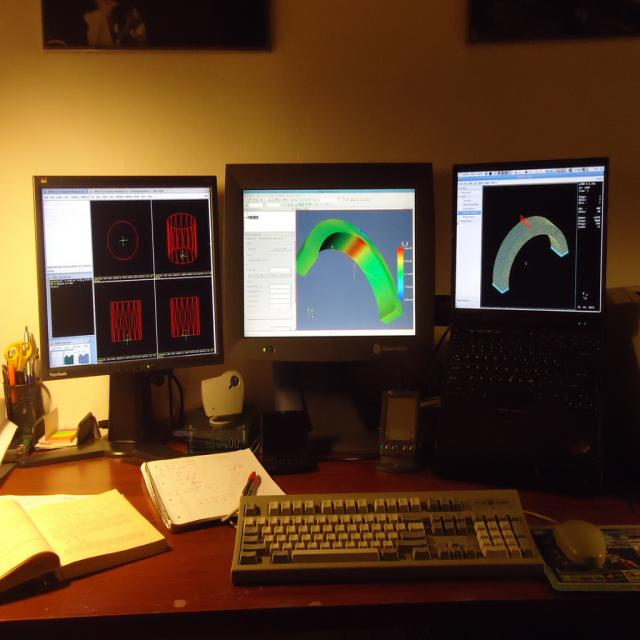desk: (0, 435, 639, 639)
keyboard: (231, 489, 545, 586)
laptop: (436, 158, 610, 488)
mouse: (552, 520, 608, 568)
tv: (224, 163, 435, 366), (33, 173, 224, 380)
